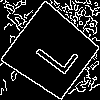L: (26, 27, 79, 78)
